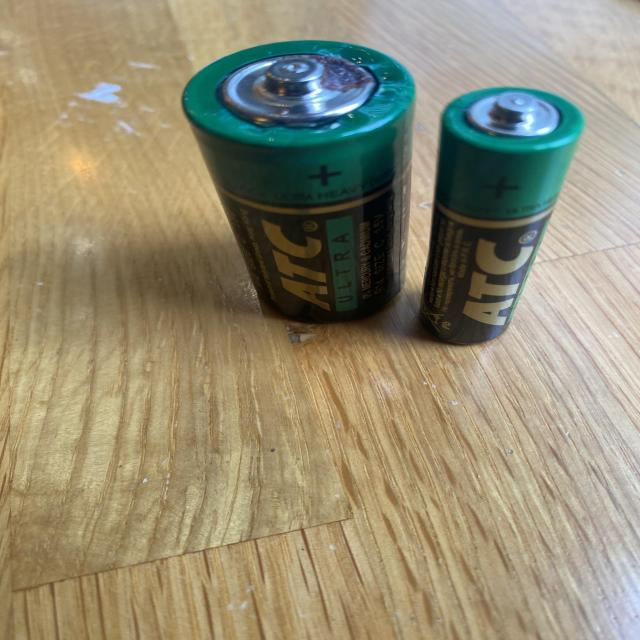AA: (418, 86, 586, 345)
